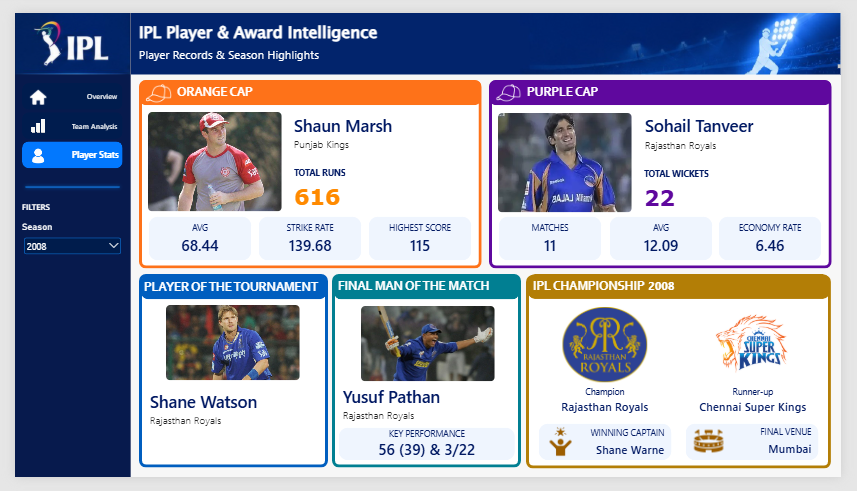

This screenshot's page, from the dashboard's own definition file:
{"tool":"powerbi","page":{"name":"Player Stats","canvas":[1920,1080],"ordinal":2},"visuals":[{"type":"image","box":[269.4,0,1650,143.4],"z":0,"group":"g10"},{"type":"shape","title":"ORANGE CAP","box":[1101.6,155.5,796.9,438.5],"z":0,"group":"g7"},{"type":"group","id":"g1","title":"Group 5","box":[287.3,156.7,797,438.5],"z":0,"group":"g5"},{"type":"shape","title":"ORANGE CAP","box":[287.3,156.7,796.9,438.5],"z":0,"group":"g2"},{"type":"group","id":"g2","title":"Group 3","box":[287.3,156.7,797,438.5],"z":0,"group":"g1"},{"type":"group","id":"g3","title":"Group 2","box":[309.1,232.2,754,231.5],"z":0,"group":"g6"},{"type":"image","box":[309.1,232.6,311.2,231.1],"z":0,"group":"g3"},{"type":"shape","title":"ORANGE CAP","box":[288.6,607.1,439.5,450],"z":0,"group":"g8"},{"type":"group","id":"g4","title":"Group 8","box":[738,608,439.5,450],"z":0},{"type":"shape","title":"ORANGE CAP","box":[738,608,439.5,450],"z":0,"group":"g4"},{"type":"shape","title":"ORANGE CAP","box":[1188.4,610.1,709.3,450],"z":0,"group":"g9"},{"type":"shape","box":[0,0,269,1081],"z":1000,"group":"g10"},{"type":"group","id":"g5","title":"Group 6","box":[287.3,155.7,797,439.5],"z":1000},{"type":"image","box":[291.8,155.7,81.4,61.9],"z":1000,"group":"g5"},{"type":"shape","title":"ORANGE CAP","box":[1102.4,156.1,796.3,58.7],"z":1000,"group":"g7"},{"type":"shape","title":"ORANGE CAP","box":[288.1,157.3,796.3,58.7],"z":1000,"group":"g2"},{"type":"group","id":"g6","title":"Group 4","box":[309.1,166.6,772.9,412],"z":1000,"group":"g1"},{"type":"cardVisual","fields":{"Data":["IPL ORANGE CAP WINNERS HISTORY.Orange Cap Team"]},"box":[630.7,288.8,431.6,38.7],"z":1000,"group":"g3"},{"type":"cardVisual","fields":{"Data":["IPL ORANGE CAP WINNERS HISTORY.Orange Cap Average"]},"box":[309.3,473.3,242.1,105.3],"z":1000,"group":"g6"},{"type":"shape","title":"ORANGE CAP","box":[1192.2,607.6,701.3,58.2],"z":1000,"group":"g9"},{"type":"cardVisual","fields":{"Data":["IPL Winners & Runners List.Final MOM Team"]},"box":[744.5,911.1,421.2,51.8],"z":1000,"group":"g4"},{"type":"cardVisual","fields":{"Data":["IPL Winners & Runners List.Tournament Winner Team"]},"box":[296,922.2,421.2,47.5],"z":1000,"group":"g8"},{"type":"image","box":[0,0,268.6,142.9],"z":2000,"group":"g10"},{"type":"group","id":"g7","title":"Group 7","box":[1101.6,155.5,797,438.5],"z":2000},{"type":"image","box":[1123.4,231.4,311.2,231.1],"z":2000,"group":"g7"},{"type":"cardVisual","fields":{"Data":["IPL ORANGE CAP WINNERS HISTORY.Orange Cap Player"]},"box":[630.7,232.2,431.6,59.6],"z":2000,"group":"g3"},{"type":"cardVisual","fields":{"Data":["IPL ORANGE CAP WINNERS HISTORY.Orange Cap Strike Rate"]},"box":[566,473,242.1,105.3],"z":2000,"group":"g6"},{"type":"shape","title":"ORANGE CAP","box":[743.4,608,431.1,59.5],"z":2000,"group":"g4"},{"type":"shape","title":"ORANGE CAP","box":[293.6,610.4,431.7,56.7],"z":2000,"group":"g8"},{"type":"textbox","title":"IPL CHAMPIONSHIP","box":[1205.1,615.9,265,45],"z":2000,"group":"g9"},{"type":"cardVisual","fields":{"Data":["IPL ORANGE CAP WINNERS HISTORY.Orange Cap Runs"]},"box":[631.3,358.3,431.8,105.4],"z":3000,"group":"g3"},{"type":"cardVisual","fields":{"Data":["IPL PURPLE CAP WINNERS HISTORY.Purple Cap Matches"]},"box":[1123.6,472.1,242.1,105.3],"z":3000,"group":"g7"},{"type":"cardVisual","fields":{"Data":["IPL ORANGE CAP WINNERS HISTORY.Orange Cap Highest Score"]},"box":[820,473,242.1,105.3],"z":3000,"group":"g6"},{"type":"slicer","title":"Season","fields":{"Values":["DimSeason.DimSeason"]},"box":[17.3,483.8,235.4,88.6],"z":3000,"group":"g10"},{"type":"group","id":"g8","title":"Group 8","box":[288.6,607.1,439.5,450],"z":3000},{"type":"textbox","title":"PLAYER OF THE TOURNAMENT","box":[299.4,617.9,417.6,39.2],"z":3000,"group":"g8"},{"type":"textbox","title":"FINAL MAN OF THE MATCH","box":[753,618,360,43.3],"z":3000,"group":"g4"},{"type":"pageNavigator","box":[17.1,162.9,234.3,198.6],"z":4000,"group":"g10"},{"type":"textbox","title":"ORANGE CAP","box":[376.3,166.6,705.8,36.5],"z":4000,"group":"g6"},{"type":"cardVisual","fields":{"Data":["IPL PURPLE CAP WINNERS HISTORY.Purple Cap Average"]},"box":[1380.3,471.8,242.1,105.3],"z":4000,"group":"g7"},{"type":"image","box":[350,680,311,174.6],"z":4000},{"type":"cardVisual","fields":{"Data":["IPL Winners & Runners List.Player of Tournament"]},"box":[296,859.5,421.2,82.1],"z":4000,"group":"g8"},{"type":"cardVisual","fields":{"Data":["IPL Winners & Runners List.Final Man of Match"]},"box":[746,862.5,414.7,62.6],"z":4000,"group":"g4"},{"type":"shape","box":[16.7,391.7,235,28.3],"z":5000,"group":"g10"},{"type":"cardVisual","fields":{"Data":["IPL PURPLE CAP WINNERS HISTORY.Purple Cap Economy"]},"box":[1634.3,471.8,242.1,105.3],"z":5000,"group":"g7"},{"type":"cardVisual","fields":{"Data":["IPL Winners & Runners List.Final MOM Performance"]},"box":[750,963.6,413.6,79.5],"z":5000},{"type":"cardVisual","fields":{"Data":["IPL PURPLE CAP WINNERS HISTORY.Purple Cap Team"]},"box":[1445,287.6,431.6,38.7],"z":6000,"group":"g7"},{"type":"textbox","box":[16.7,436.7,73.3,30],"z":6000,"group":"g10"},{"type":"group","id":"g9","title":"Group 8","box":[1188.4,607.6,709.3,452.5],"z":6000},{"type":"textbox","title":"IPL Player & Award Intelligence","box":[287.3,17.3,1633,112.3],"z":7000,"group":"g10"},{"type":"cardVisual","fields":{"Data":["IPL PURPLE CAP WINNERS HISTORY.Purple Cap Player"]},"box":[1445,231,431.6,59.6],"z":7000,"group":"g7"},{"type":"cardVisual","fields":{"Data":["IPL Winners & Runners List.Selected Season"]},"box":[1470.9,611.8,71.8,39.1],"z":7000},{"type":"cardVisual","fields":{"Data":["IPL PURPLE CAP WINNERS HISTORY.Purple Cap Wickets"]},"box":[1445.6,357.1,431.8,105.4],"z":8000,"group":"g7"},{"type":"image","box":[805.7,680.4,311,175],"z":8000},{"type":"textbox","title":"PURPLE CAP","box":[1188.9,164.1,709.6,38.5],"z":9000,"group":"g7"},{"type":"image","box":[1216.4,682.6,311,174.6],"z":9000},{"type":"image","box":[1106.6,155.7,81.4,58.6],"z":10000,"group":"g7"},{"type":"cardVisual","fields":{"Data":["IPL Winners & Runners List.Champion"]},"box":[1216.7,867.2,311.4,67.1],"z":10000},{"type":"image","box":[1559.1,681.8,311,174.6],"z":11000},{"type":"image","box":[32.5,175.6,42.9,37.1],"z":12000,"group":"g11"},{"type":"cardVisual","fields":{"Data":["IPL Winners & Runners List.Runner"]},"box":[1559.4,866.4,311.4,67.1],"z":12000},{"type":"image","box":[32.5,243.5,42.9,37.1],"z":13000,"group":"g11"},{"type":"cardVisual","fields":{"Data":["IPL Winners & Runners List.Winning Cap"]},"box":[1215.9,954.5,312.5,88.6],"z":13000},{"type":"image","box":[31.6,313.5,42.7,37.3],"z":14000,"group":"g11"},{"type":"cardVisual","fields":{"Data":["IPL Winners & Runners List.Final Venue"]},"box":[1559.1,954.5,312.5,88.6],"z":14000},{"type":"group","id":"g10","title":"Group 1","box":[0,0,1920.2,1081],"z":15000},{"type":"group","id":"g11","title":"Group 2","box":[31.6,175.6,43.8,175.1],"z":16000}]}

Visuals, with their boxes on the page's 1920x1080 design canvas (x1, y1, x2, y2). These are canvas units, not pixel positions in the 857x491 screenshot, which may show the page scaled, cropped or inside an application window:
image: 269 0 1919 143
"ORANGE CAP" shape: 1102 156 1898 594
"Group 5" group: 287 157 1084 595
"ORANGE CAP" shape: 287 157 1084 595
"Group 3" group: 287 157 1084 595
"Group 2" group: 309 232 1063 464
image: 309 233 620 464
"ORANGE CAP" shape: 289 607 728 1057
"Group 8" group: 738 608 1178 1058
"ORANGE CAP" shape: 738 608 1178 1058
"ORANGE CAP" shape: 1188 610 1898 1060
shape: 0 0 269 1081
"Group 6" group: 287 156 1084 595
image: 292 156 373 218
"ORANGE CAP" shape: 1102 156 1899 215
"ORANGE CAP" shape: 288 157 1084 216
"Group 4" group: 309 167 1082 579
cardVisual - IPL ORANGE CAP WINNERS HISTORY.Orange Cap Team: 631 289 1062 328
cardVisual - IPL ORANGE CAP WINNERS HISTORY.Orange Cap Average: 309 473 551 579
"ORANGE CAP" shape: 1192 608 1894 666
cardVisual - IPL Winners & Runners List.Final MOM Team: 744 911 1166 963
cardVisual - IPL Winners & Runners List.Tournament Winner Team: 296 922 717 970
image: 0 0 269 143
"Group 7" group: 1102 156 1899 594
image: 1123 231 1435 462
cardVisual - IPL ORANGE CAP WINNERS HISTORY.Orange Cap Player: 631 232 1062 292
cardVisual - IPL ORANGE CAP WINNERS HISTORY.Orange Cap Strike Rate: 566 473 808 578
"ORANGE CAP" shape: 743 608 1174 668
"ORANGE CAP" shape: 294 610 725 667
"IPL CHAMPIONSHIP" textbox: 1205 616 1470 661
cardVisual - IPL ORANGE CAP WINNERS HISTORY.Orange Cap Runs: 631 358 1063 464
cardVisual - IPL PURPLE CAP WINNERS HISTORY.Purple Cap Matches: 1124 472 1366 577
cardVisual - IPL ORANGE CAP WINNERS HISTORY.Orange Cap Highest Score: 820 473 1062 578
"Season" slicer: 17 484 253 572
"Group 8" group: 289 607 728 1057
"PLAYER OF THE TOURNAMENT" textbox: 299 618 717 657
"FINAL MAN OF THE MATCH" textbox: 753 618 1113 661
pageNavigator: 17 163 251 362
"ORANGE CAP" textbox: 376 167 1082 203
cardVisual - IPL PURPLE CAP WINNERS HISTORY.Purple Cap Average: 1380 472 1622 577
image: 350 680 661 855
cardVisual - IPL Winners & Runners List.Player of Tournament: 296 860 717 942
cardVisual - IPL Winners & Runners List.Final Man of Match: 746 862 1161 925
shape: 17 392 252 420
cardVisual - IPL PURPLE CAP WINNERS HISTORY.Purple Cap Economy: 1634 472 1876 577
cardVisual - IPL Winners & Runners List.Final MOM Performance: 750 964 1164 1043
cardVisual - IPL PURPLE CAP WINNERS HISTORY.Purple Cap Team: 1445 288 1877 326
textbox: 17 437 90 467
"Group 8" group: 1188 608 1898 1060
"IPL Player & Award Intelligence" textbox: 287 17 1920 130
cardVisual - IPL PURPLE CAP WINNERS HISTORY.Purple Cap Player: 1445 231 1877 291
cardVisual - IPL Winners & Runners List.Selected Season: 1471 612 1543 651
cardVisual - IPL PURPLE CAP WINNERS HISTORY.Purple Cap Wickets: 1446 357 1877 462
image: 806 680 1117 855
"PURPLE CAP" textbox: 1189 164 1898 203
image: 1216 683 1527 857
image: 1107 156 1188 214
cardVisual - IPL Winners & Runners List.Champion: 1217 867 1528 934
image: 1559 682 1870 856
image: 32 176 75 213
cardVisual - IPL Winners & Runners List.Runner: 1559 866 1871 934
image: 32 244 75 281
cardVisual - IPL Winners & Runners List.Winning Cap: 1216 954 1528 1043
image: 32 314 74 351
cardVisual - IPL Winners & Runners List.Final Venue: 1559 954 1872 1043
"Group 1" group: 0 0 1920 1081
"Group 2" group: 32 176 75 351
